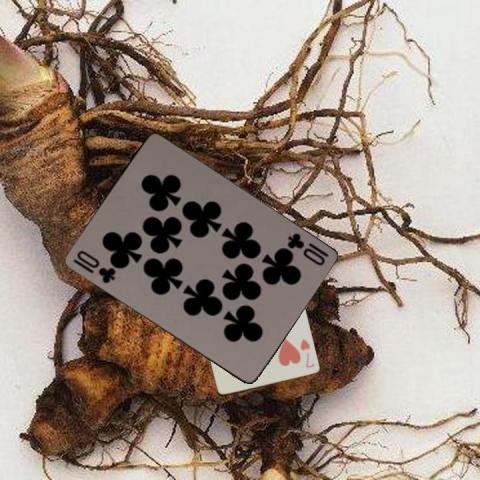10c: (70, 247, 118, 285), (283, 230, 330, 268)
7h: (297, 336, 316, 370)
